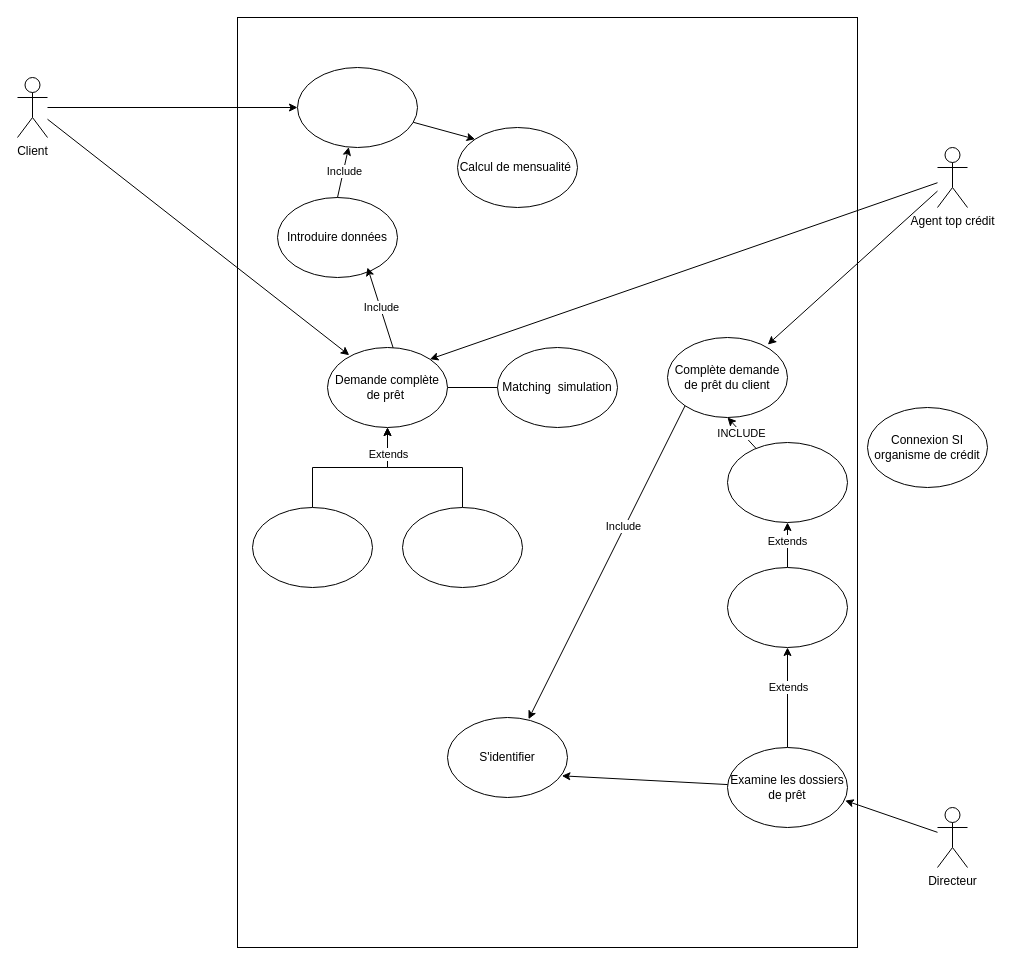
This 1012x965 diagram has some shape labels left out. The centre of each missing label's shape, as x and y in pixels:
"Complète situation du client" belongs at point (787, 482).
"Faire parvenir devis" belongs at point (462, 547).
"Faire parvenir plan" belongs at point (312, 547).
"Refuse la demande" belongs at point (787, 607).
"Simulation de prêt" belongs at point (357, 107).
